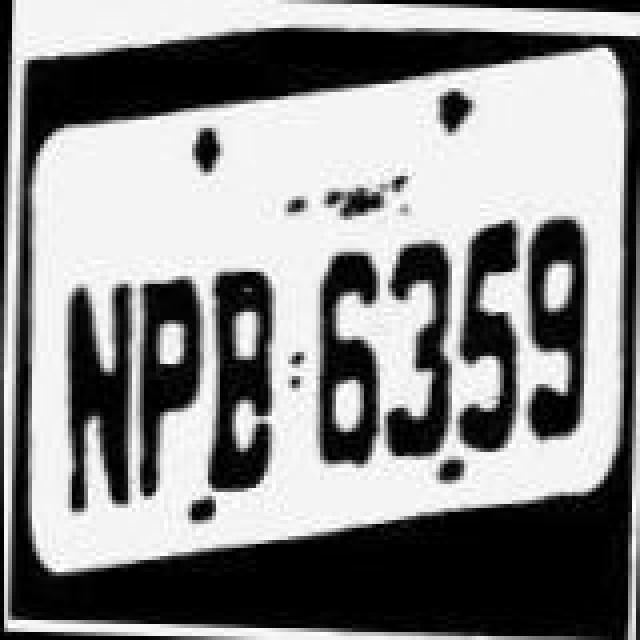3: (378, 230, 454, 482)
5: (446, 212, 526, 464)
6: (304, 220, 384, 492)
9: (516, 202, 592, 454)
B: (196, 218, 284, 498)
N: (46, 194, 134, 486)
P: (130, 224, 206, 500)
